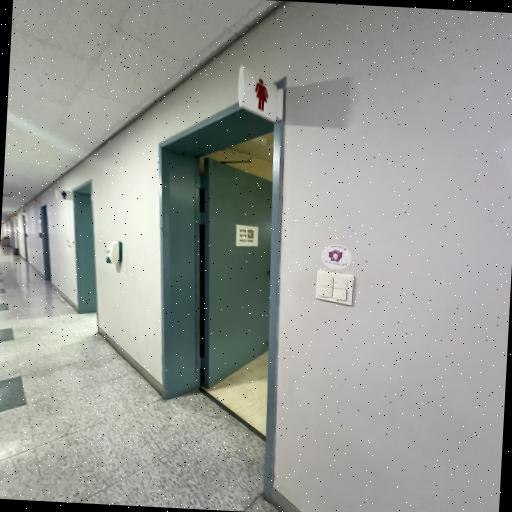door: (157, 78, 286, 501)
